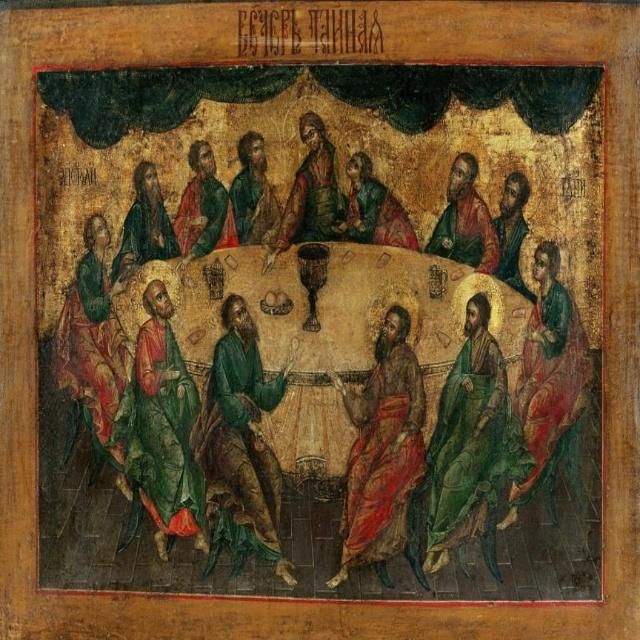aura: (449, 270, 506, 349), (517, 220, 580, 291), (368, 280, 428, 354), (435, 131, 492, 206), (279, 92, 338, 164), (129, 261, 188, 332), (226, 109, 282, 179), (120, 130, 172, 199), (334, 128, 388, 193)
bread: (258, 284, 294, 329), (189, 322, 204, 349), (435, 324, 449, 351), (511, 302, 526, 323), (451, 266, 465, 286), (342, 248, 354, 271), (226, 252, 240, 270), (381, 251, 391, 272)
chalice: (295, 241, 331, 341)
christ: (268, 86, 348, 273)
cup: (201, 255, 228, 299), (428, 256, 448, 311)
saint: (334, 282, 429, 594), (119, 261, 204, 569), (199, 294, 288, 568), (514, 212, 594, 492), (45, 191, 126, 461), (429, 272, 502, 562), (422, 128, 498, 286), (336, 122, 418, 252), (169, 133, 240, 266), (488, 146, 542, 295), (112, 154, 179, 272), (224, 112, 278, 240)
